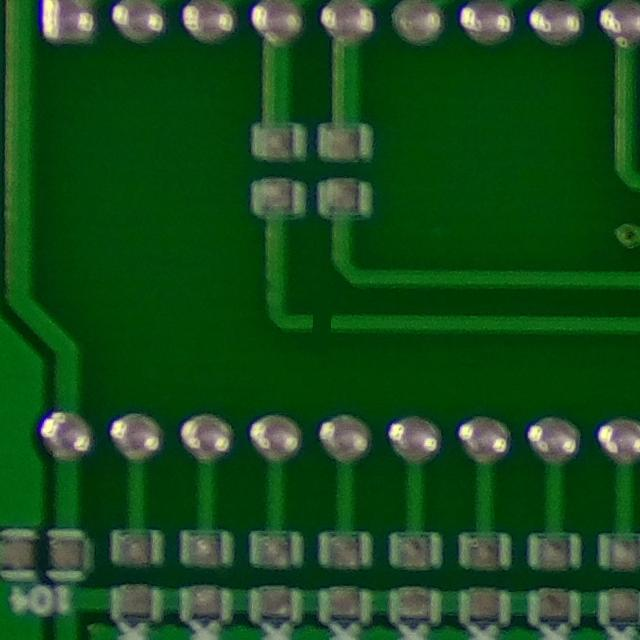open_circuit: (300, 302, 341, 339)
